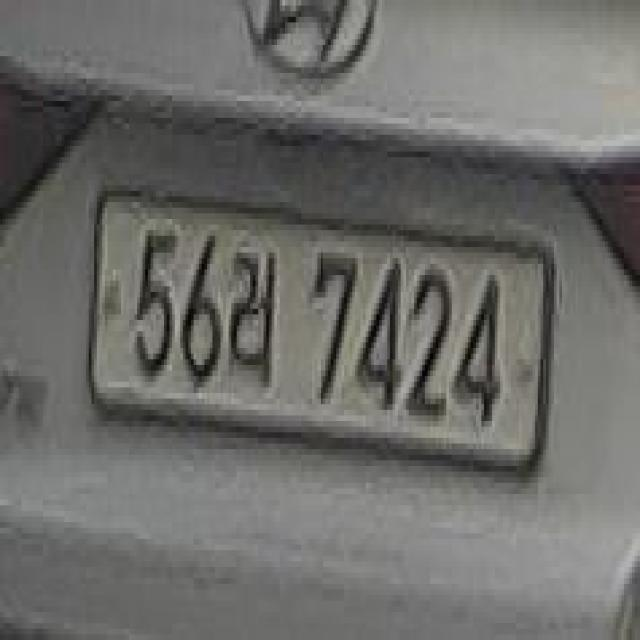illegal_plate: (90, 179, 546, 503)
